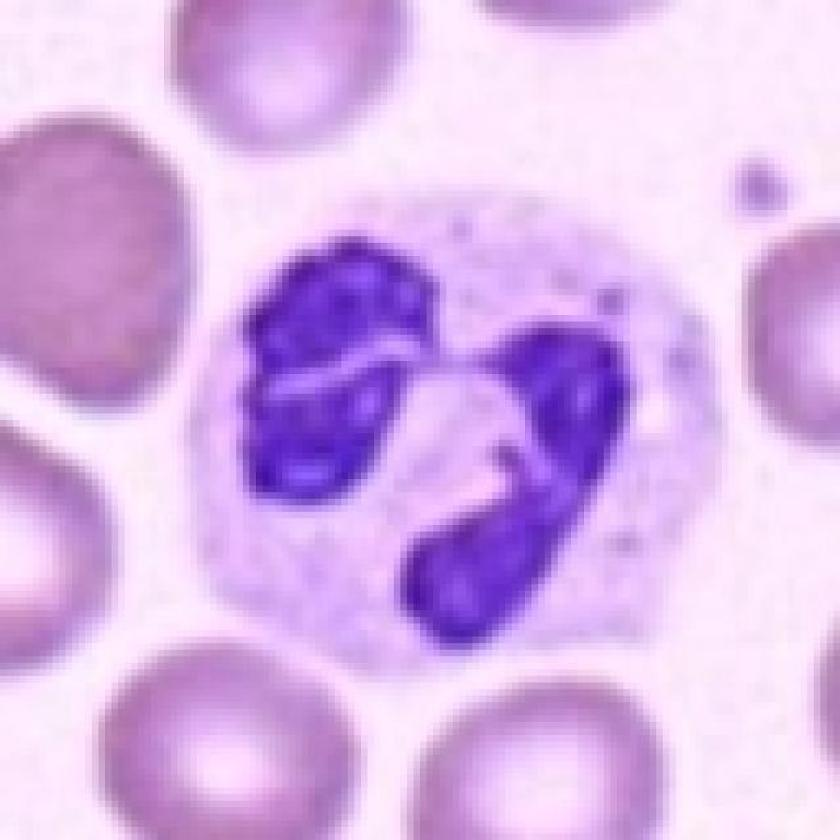neutrophil: (193, 190, 736, 678)
